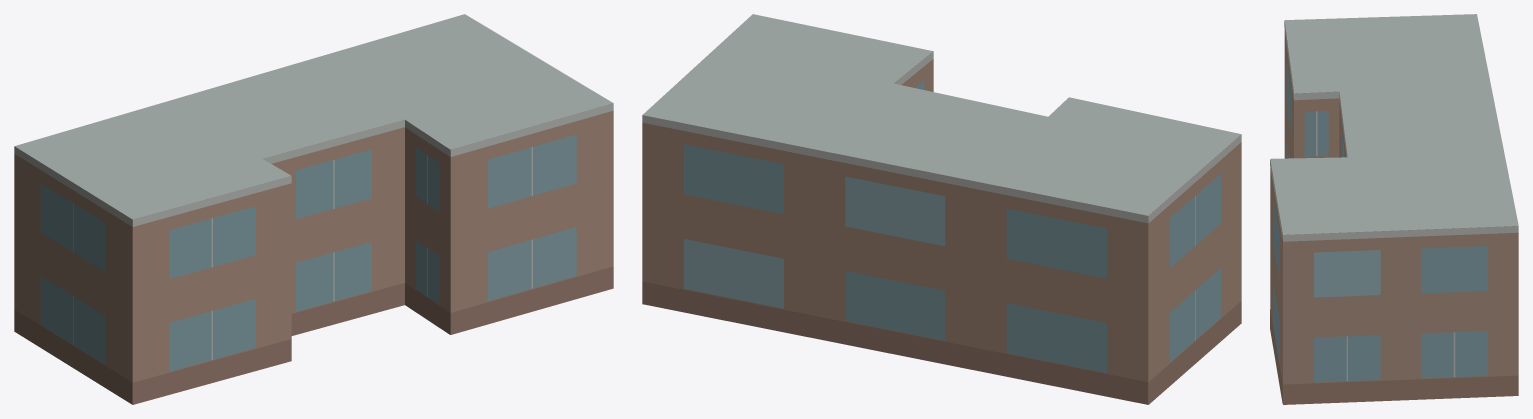
The model's file is survey-upis-32759486.glb.
The picture shows the model from 3 angles, left to right: view 1: azimuth 30°, elevation 25°; view 2: azimuth 150°, elevation 25°; view 3: azimuth 270°, elevation 25°; orthographic projection. The views are drawn at different scales.
Visible parts, largest first — view 1: survey-upis-32759486.tmp; view 2: survey-upis-32759486.tmp; view 3: survey-upis-32759486.tmp.
Boxes of the visible parts, <box> form: survey-upis-32759486.tmp: <box>14,14,613,404</box>; survey-upis-32759486.tmp: <box>642,14,1241,404</box>; survey-upis-32759486.tmp: <box>1270,14,1518,404</box>.
Bounding box in the file's own units: 17.02 × 6.1 × 8.1.
